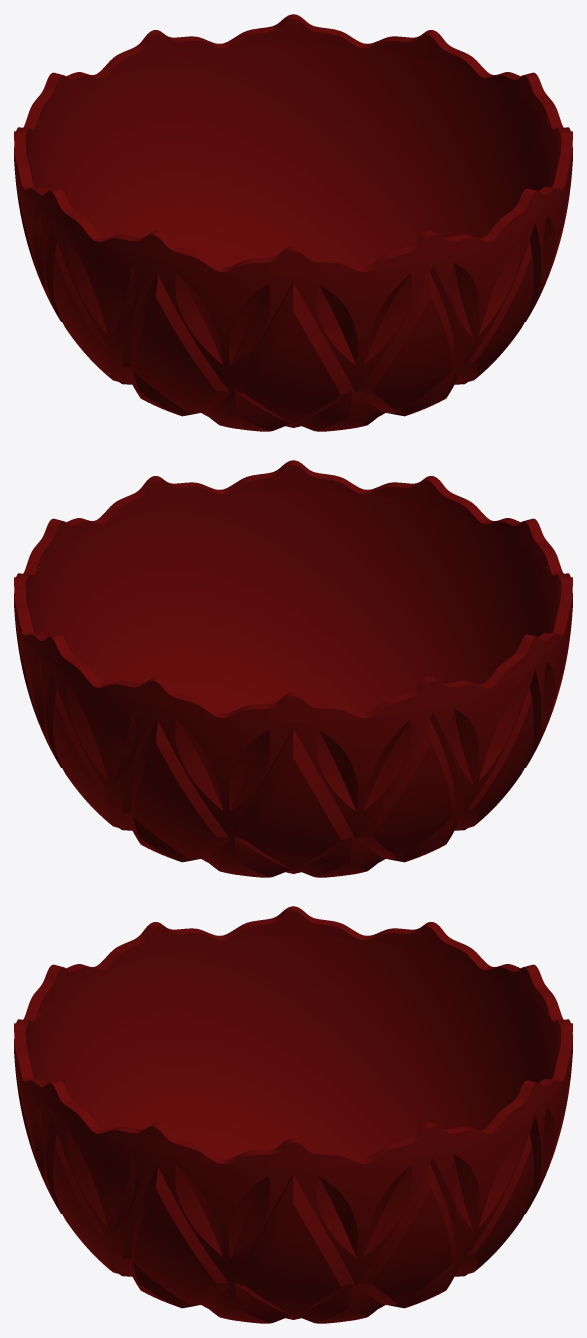
3 views of the same model, one above another, from view 1: azimuth 30°, elevation 25°; view 2: azimuth 150°, elevation 25°; view 3: azimuth 270°, elevation 25° (orthographic).
Bounding box in the file's own units: 0.113 × 0.054 × 0.113.
